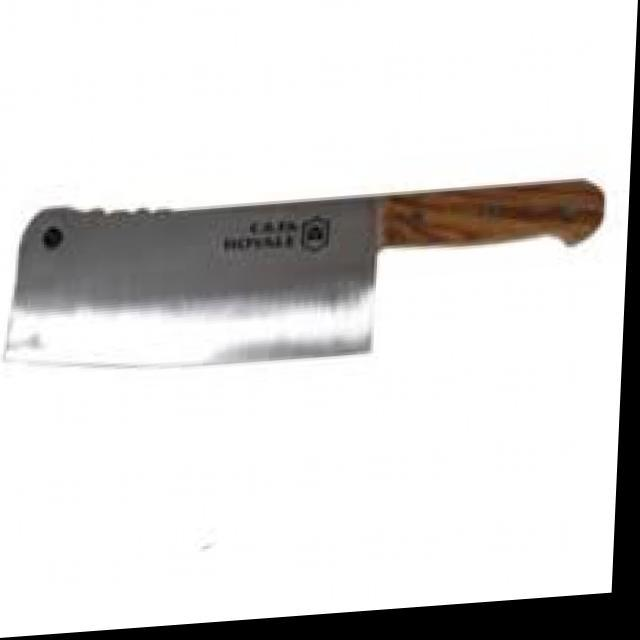knife: (2, 177, 604, 372)
